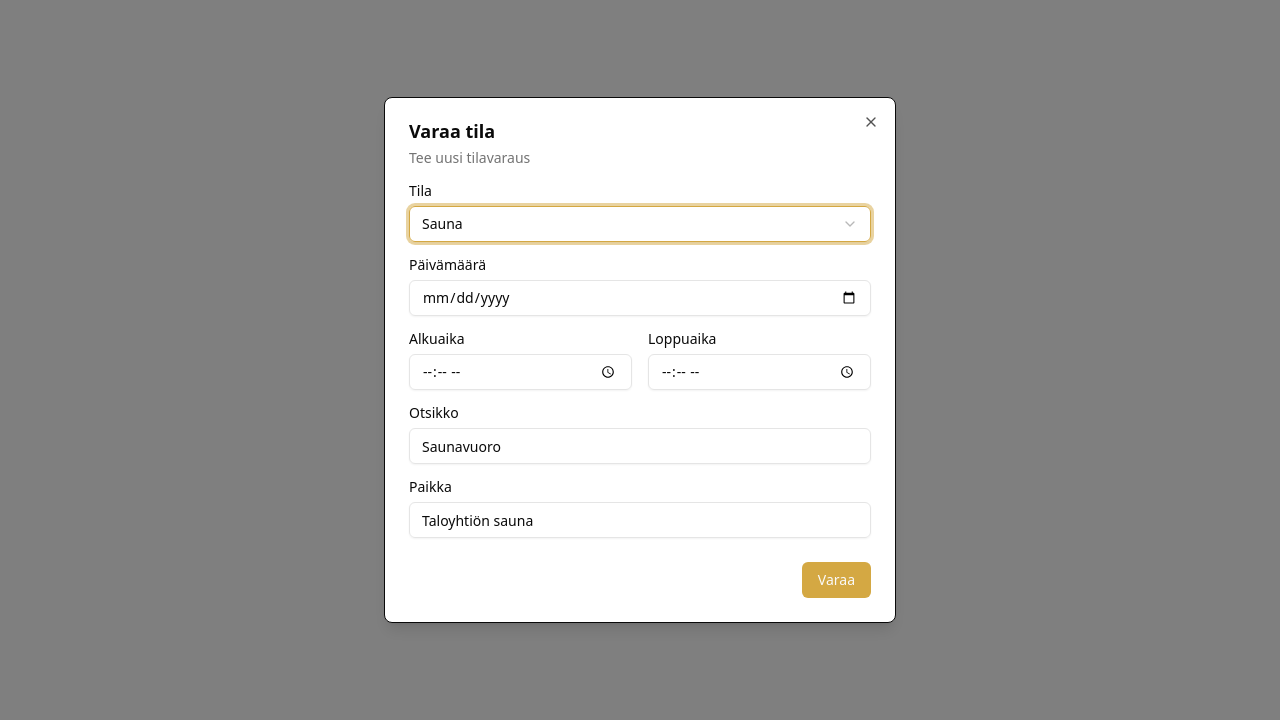
Test: BookingFormDialog › shows validation error for missing date
Click the button "Varaa" at (836, 580), box [802,562,871,598]
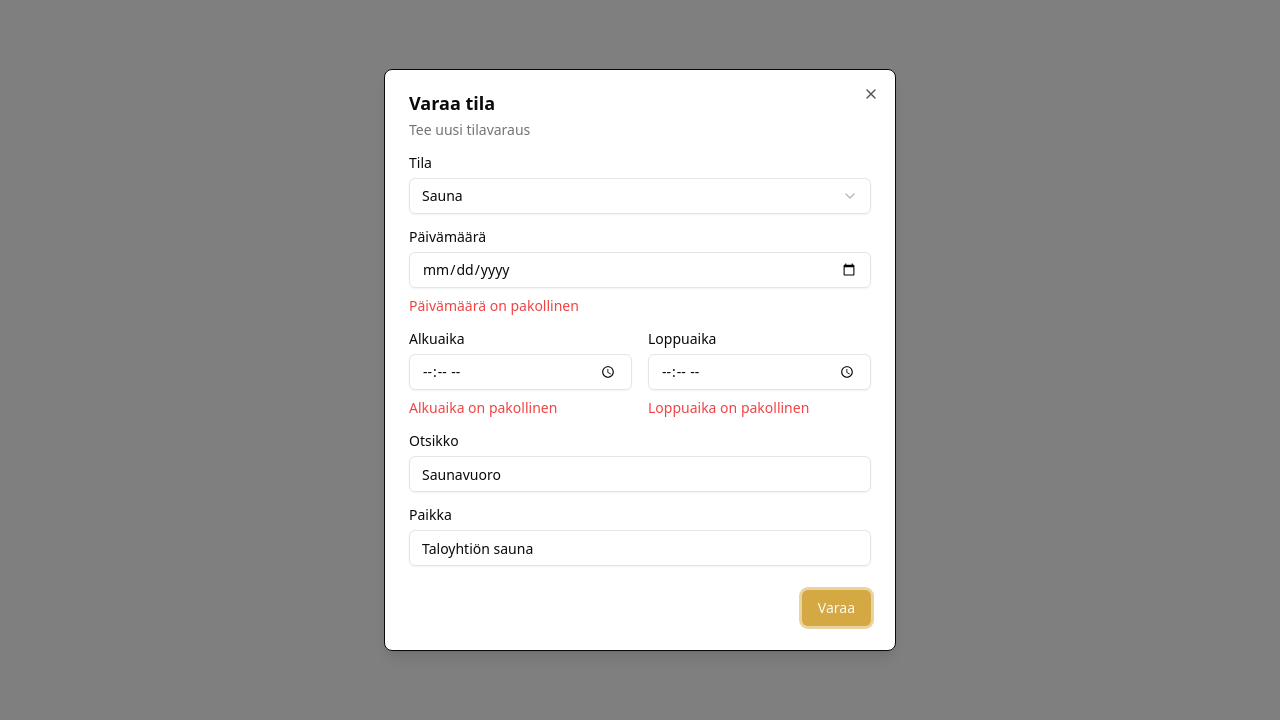
expect the text "Päivämäärä on pakollinen" is shown: met, box [409,296,579,315]
